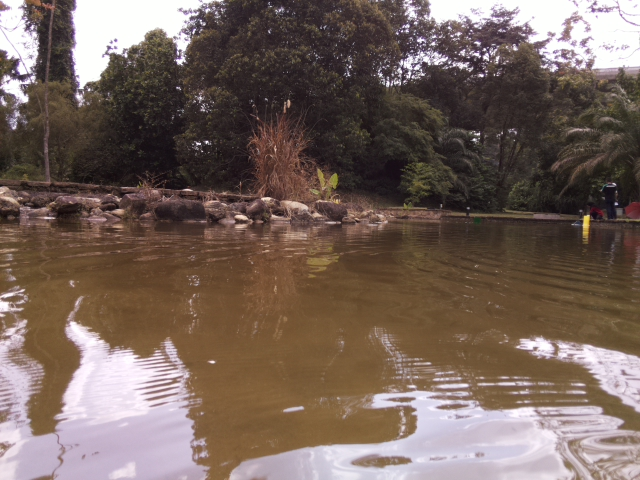obstacle: (472, 217, 482, 224)
